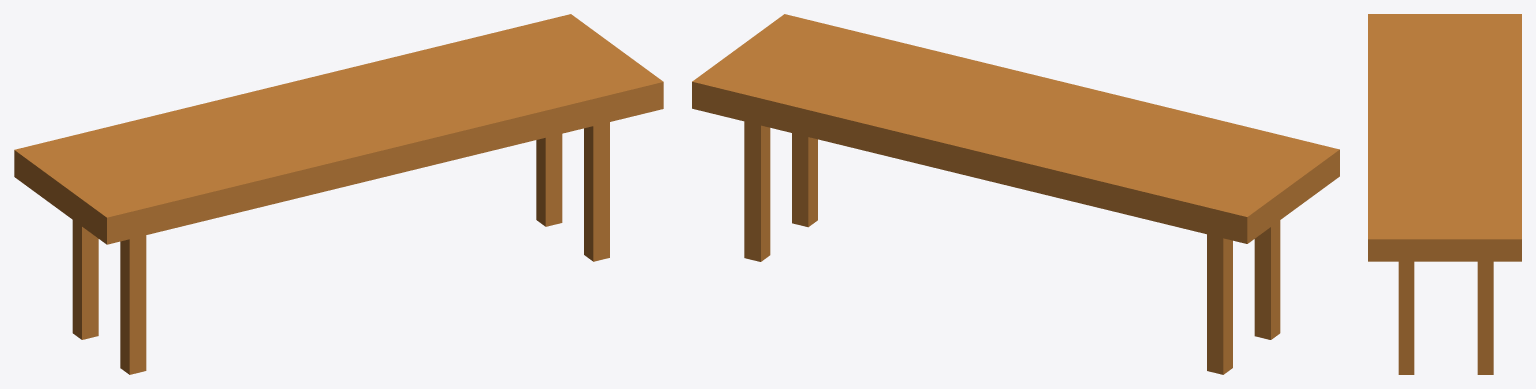
Rendered from Table.obj.
The picture shows the model from 3 angles, left to right: view 1: azimuth 30°, elevation 25°; view 2: azimuth 150°, elevation 25°; view 3: azimuth 270°, elevation 25°; orthographic projection. The views are drawn at different scales.
Visible parts, largest first — view 1: Table2_Plane.009; view 2: Table2_Plane.009; view 3: Table2_Plane.009.
Boxes of the visible parts, <box> form: Table2_Plane.009: <box>14,14,663,374</box>; Table2_Plane.009: <box>692,14,1339,374</box>; Table2_Plane.009: <box>1368,14,1521,374</box>.
Size of the model in its own units: 4.16 by 1.29 by 1.2.
